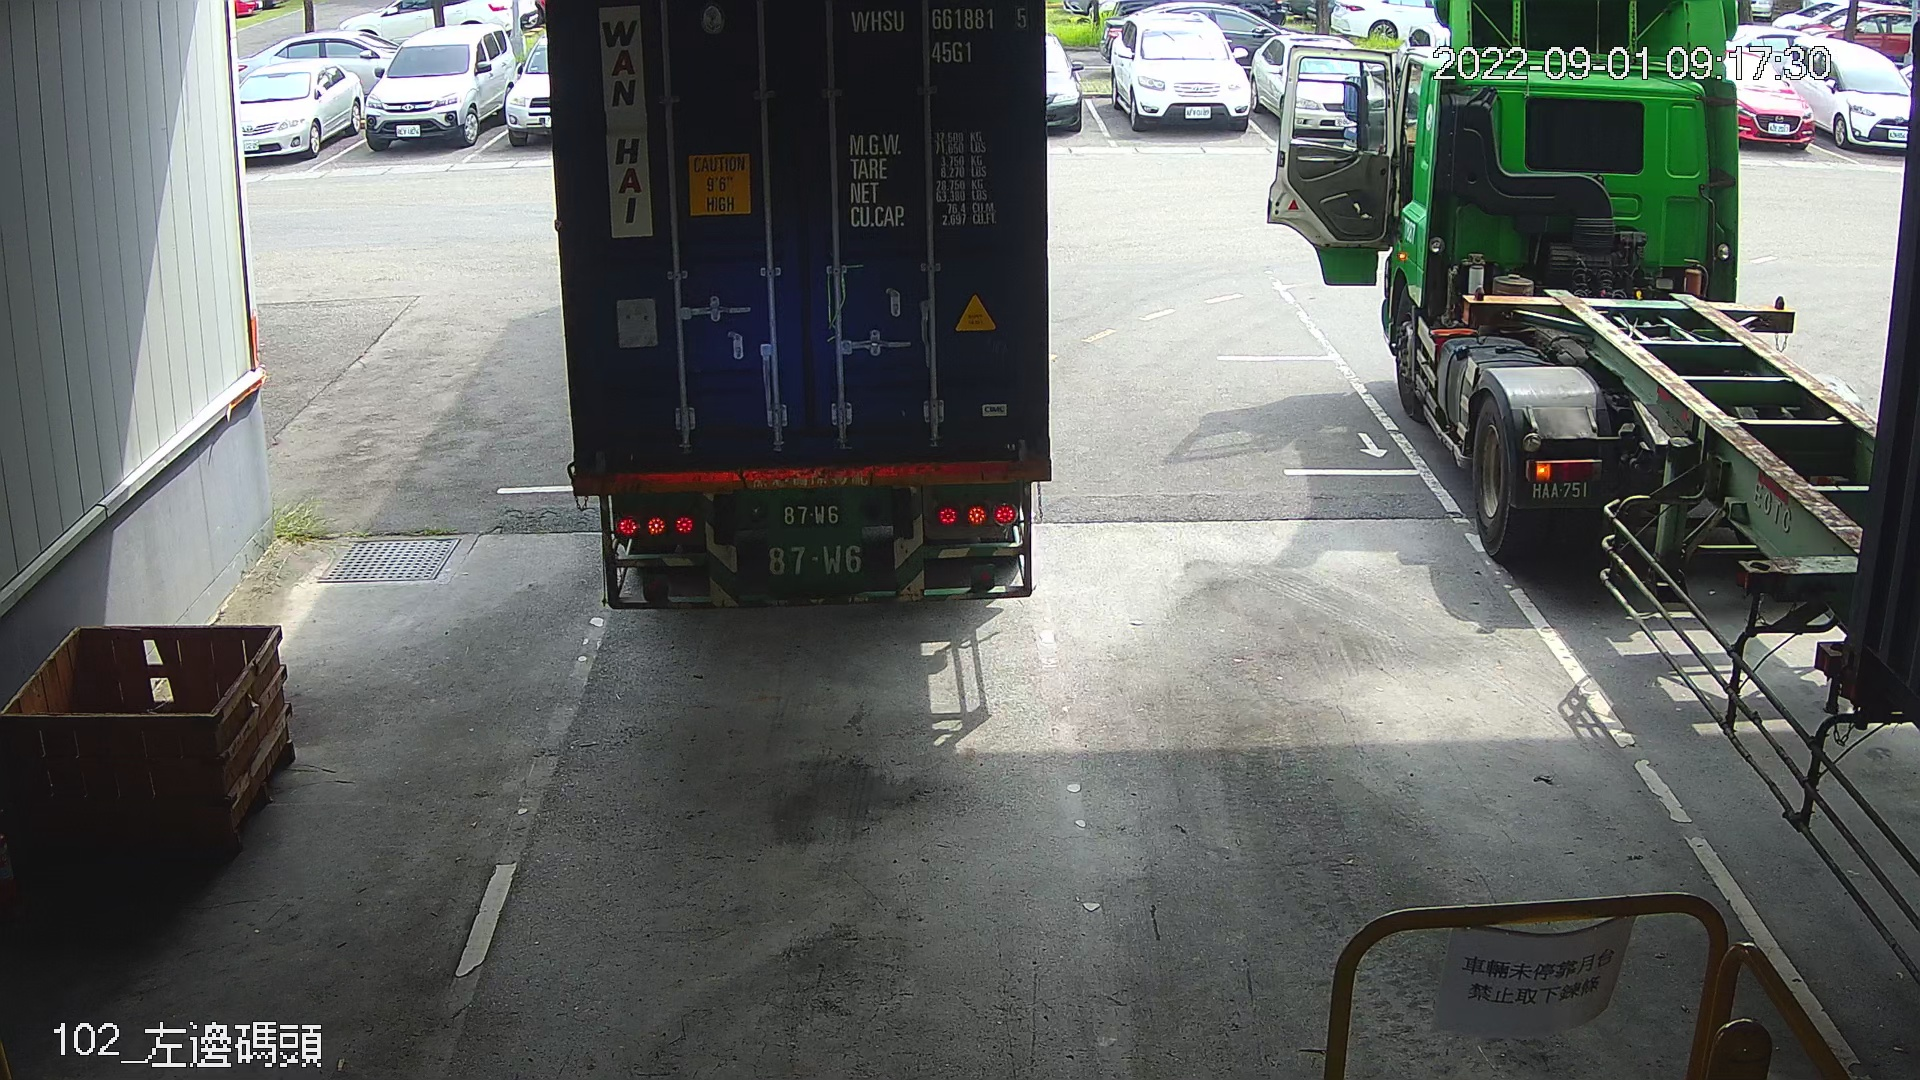container: (844, 1, 1036, 69)
